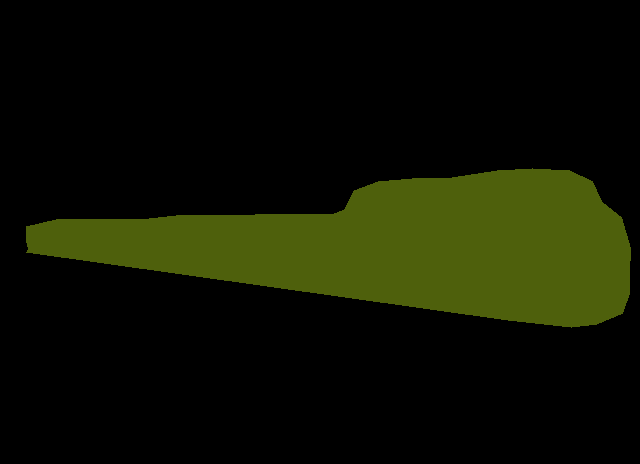Train: (26, 168, 631, 327)
